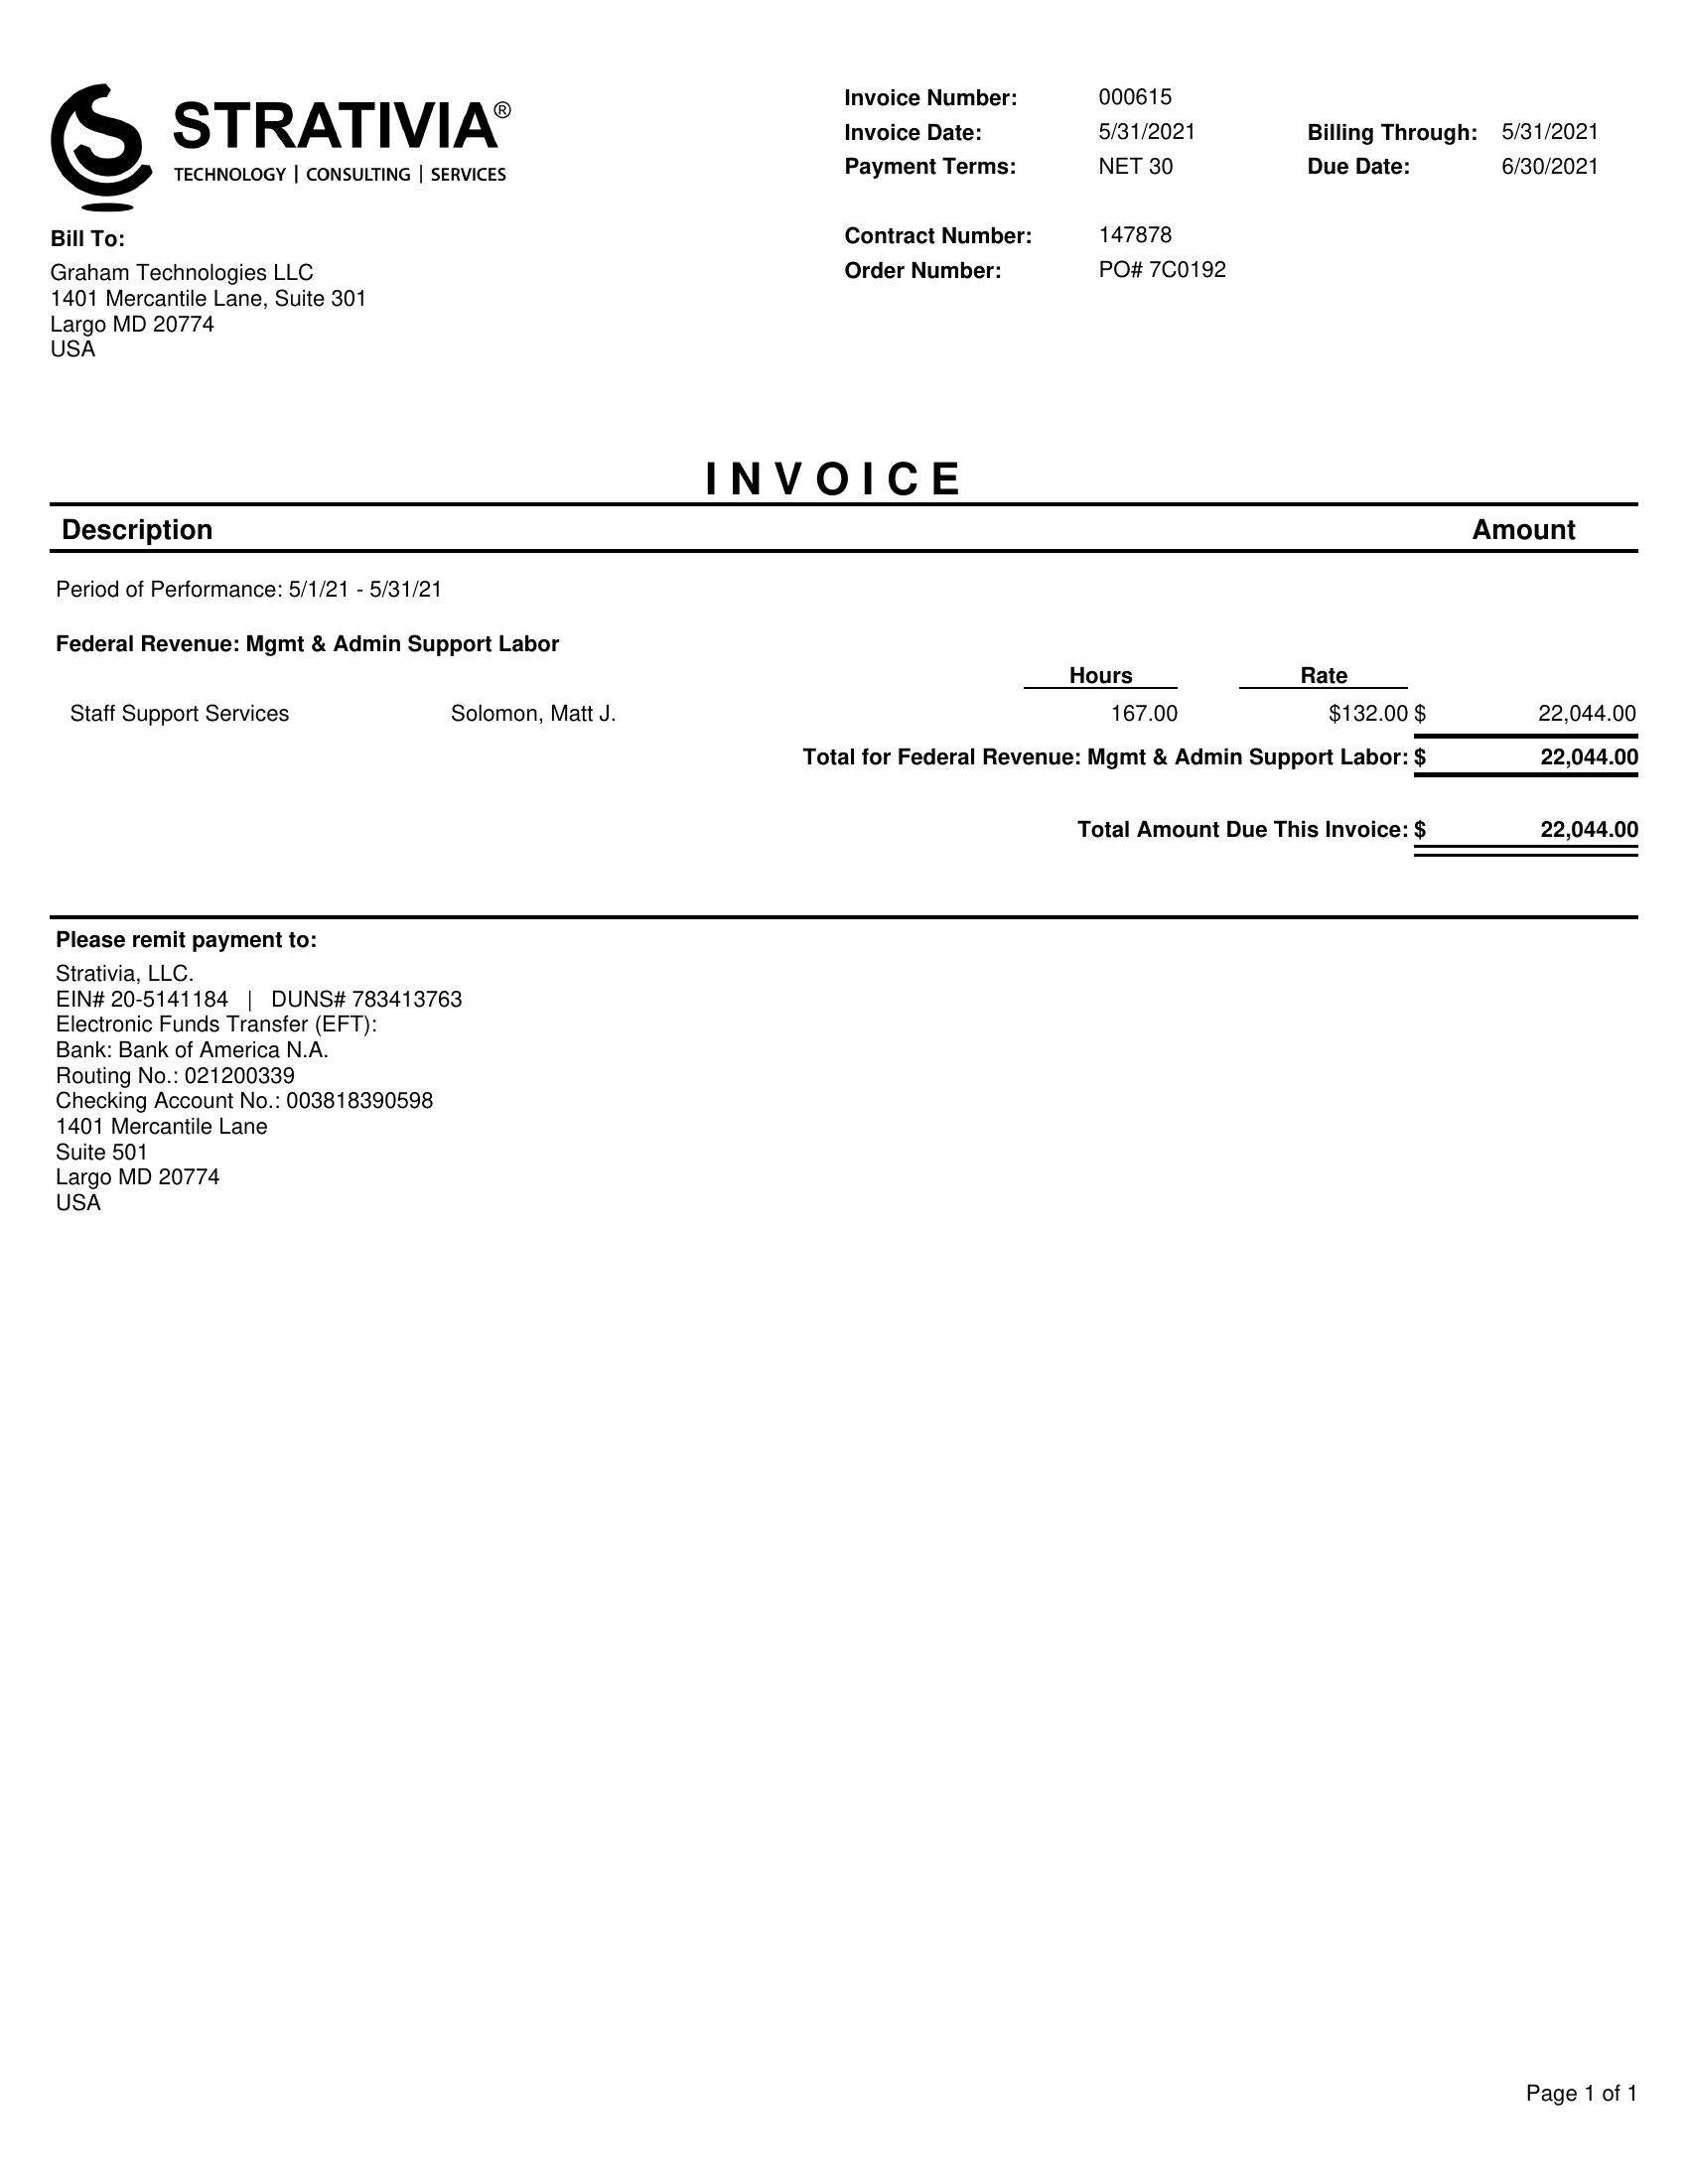table: (55, 498, 1651, 628)
